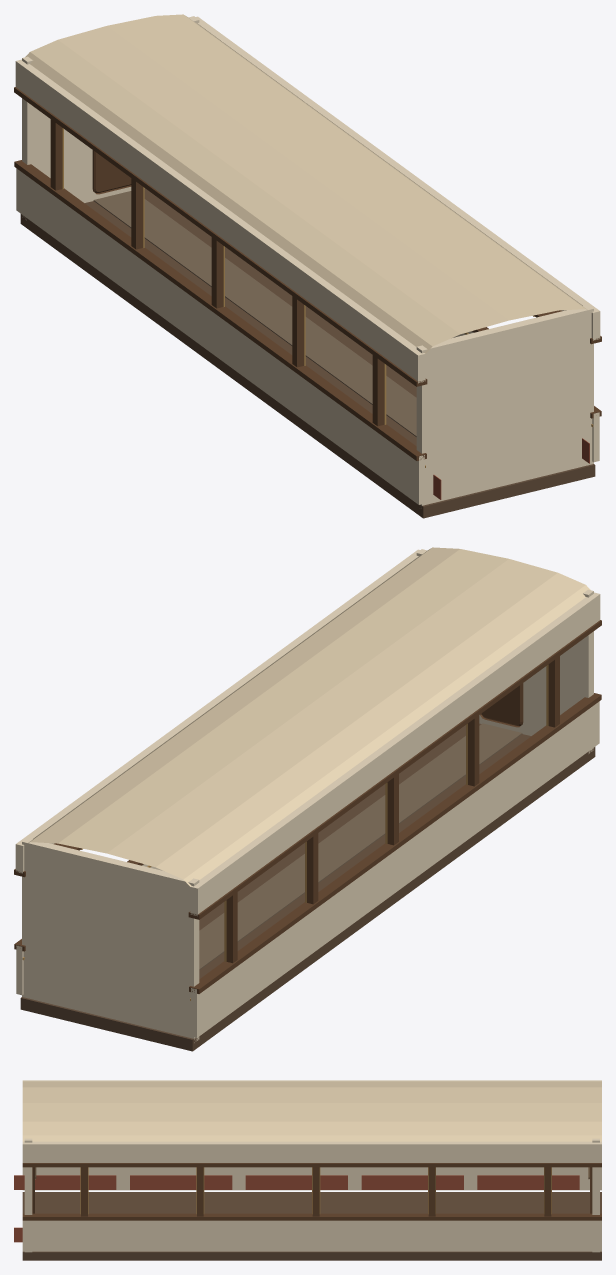
Rendered from carriage_vintage.glb.
3 views of the same model, one above another, from view 1: azimuth 30°, elevation 25°; view 2: azimuth 150°, elevation 25°; view 3: azimuth 270°, elevation 25° (orthographic). The views are drawn at different scales.
Visible parts, largest first — view 1: Arched ceiling, End vestibule (×2), Lower wall, Upper wall (×2), Floor, Center aisle, Window sill, Window pillar (×5), Window header, Door panel; view 2: Arched ceiling, End vestibule (×2), Lower wall, Upper wall (×2), Floor, Center aisle, Window sill, Window pillar (×5), Window header, Door panel; view 3: Arched ceiling, Lower wall (×2), Floor, Upper wall (×2), Wood panel inset (×5), Window sill, Window header, Window pillar (×5), End vestibule (×2).
Boxes of the visible parts, left/top/right/bottom form: Arched ceiling: left=25, top=14, right=591, bottom=353; End vestibule (×2): left=22, top=16, right=593, bottom=508; Lower wall: left=16, top=168, right=424, bottom=504; Upper wall (×2): left=15, top=16, right=600, bottom=383; Floor: left=20, top=188, right=595, bottom=518; Center aisle: left=93, top=191, right=416, bottom=436; Window sill: left=14, top=160, right=426, bottom=460; Window pillar (×5): left=50, top=119, right=384, bottom=426; Window header: left=14, top=87, right=427, bottom=386; Door panel: left=92, top=150, right=131, bottom=194; Arched ceiling: left=24, top=547, right=590, bottom=886; End vestibule (×2): left=22, top=549, right=593, bottom=1042; Lower wall: left=191, top=701, right=599, bottom=1037; Upper wall (×2): left=15, top=549, right=600, bottom=916; Floor: left=20, top=723, right=595, bottom=1051; Center aisle: left=199, top=723, right=522, bottom=969; Window sill: left=189, top=693, right=601, bottom=993; Window pillar (×5): left=226, top=656, right=559, bottom=963; Window header: left=188, top=620, right=601, bottom=919; Door panel: left=480, top=683, right=523, bottom=727; Arched ceiling: left=22, top=1081, right=601, bottom=1141; Lower wall (×2): left=22, top=1167, right=601, bottom=1251; Floor: left=22, top=1192, right=601, bottom=1260; Upper wall (×2): left=22, top=1080, right=601, bottom=1162; Wood panel inset (×5): left=14, top=1175, right=579, bottom=1189; Window sill: left=22, top=1213, right=601, bottom=1220; Window header: left=22, top=1163, right=601, bottom=1167; Window pillar (×5): left=81, top=1167, right=551, bottom=1216; End vestibule (×2): left=24, top=1080, right=599, bottom=1252.
Bounding box in the file's own units: 3.99 × 3.64 × 15.23.
